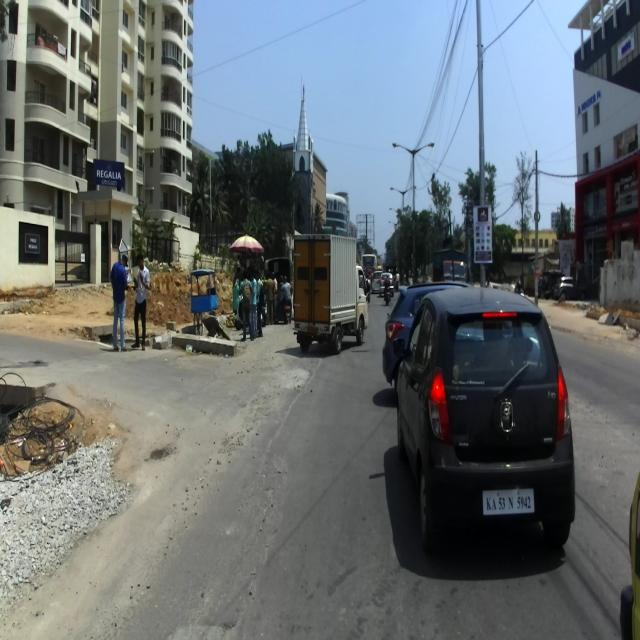car: (395, 282, 575, 556)
truck: (291, 235, 369, 354)
